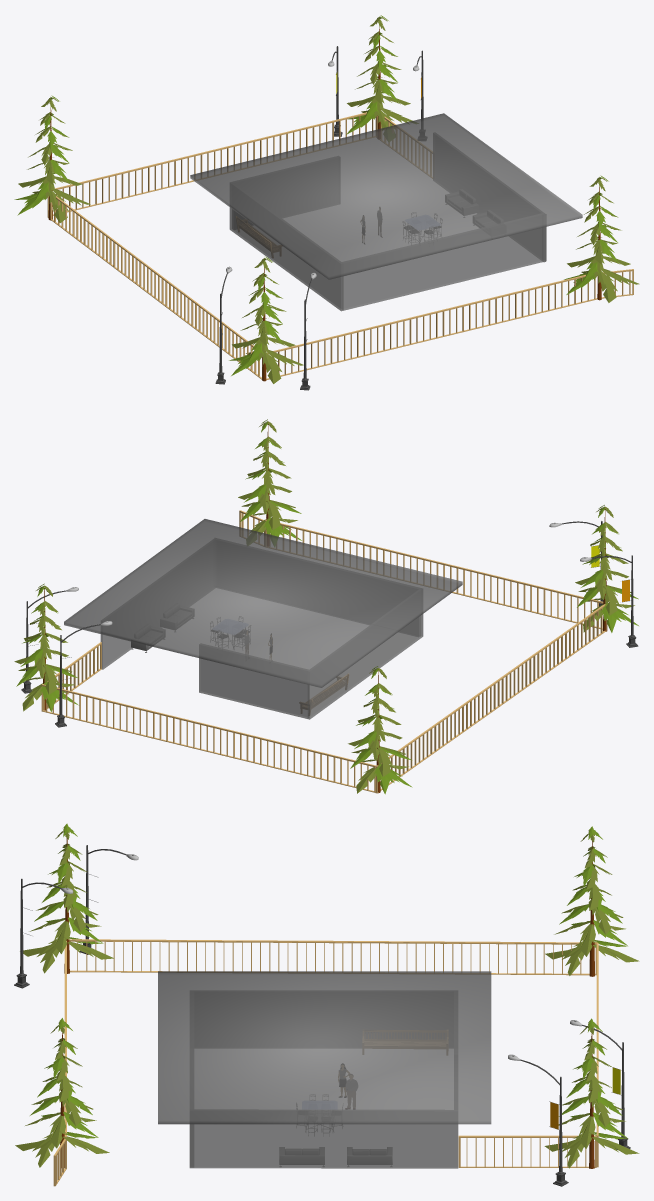
File: demo3.gltf
3 views of the same model, one above another, from view 1: azimuth 30°, elevation 25°; view 2: azimuth 150°, elevation 25°; view 3: azimuth 270°, elevation 25° (orthographic). The views are drawn at different scales.
Parts seen in each view (by area): view 1: object 1, house, Runner_Overhead (×3), Runner_Stud; view 2: object 1, house, Runner_Overhead (×3), Runner_Stud; view 3: object 1, house, Runner_Stud (×2), Runner_Overhead.
Part boxes in pixels (<box>): object 1: <box>190,113,582,279</box>; house: <box>229,133,546,311</box>; Runner_Overhead (×3): <box>55,112,585,353</box>; Runner_Stud: <box>266,298,597,379</box>; object 1: <box>64,519,462,687</box>; house: <box>100,538,423,719</box>; Runner_Overhead (×3): <box>41,519,605,766</box>; Runner_Stud: <box>41,710,375,792</box>; object 1: <box>158,971,491,1124</box>; house: <box>189,991,458,1168</box>; Runner_Stud (×2): <box>69,941,596,975</box>; Runner_Overhead: <box>69,939,597,943</box>.
Size of the model in its own units: 25.27 by 7.41 by 27.8.
